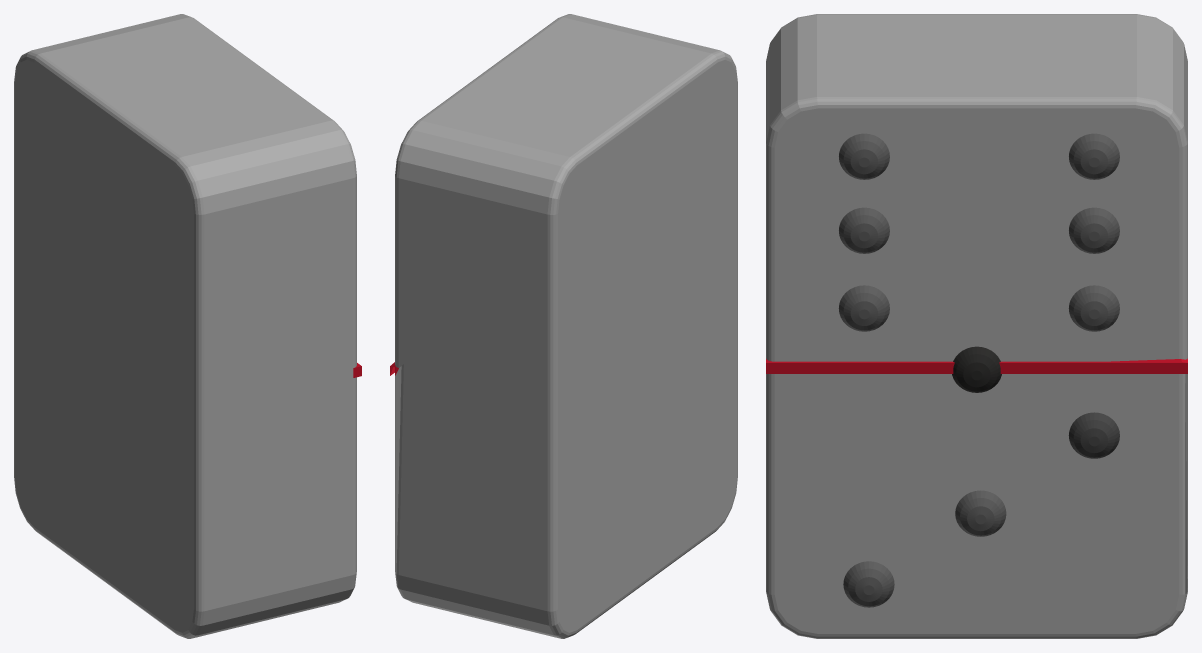
Rendered from 4. Domino.fbx.
3 views of the same model, side by side, from view 1: azimuth 30°, elevation 25°; view 2: azimuth 150°, elevation 25°; view 3: azimuth 270°, elevation 25° (orthographic). The views are drawn at different scales.
Parts seen in each view (by area): view 1: Circle; view 2: Circle; view 3: Circle.
Part boxes in pixels (x1,y1,x2,y2): Circle: (14, 14, 361, 638); Circle: (390, 14, 737, 638); Circle: (766, 14, 1187, 638).
Bounding box in the file's own units: 107 × 283 × 200.
